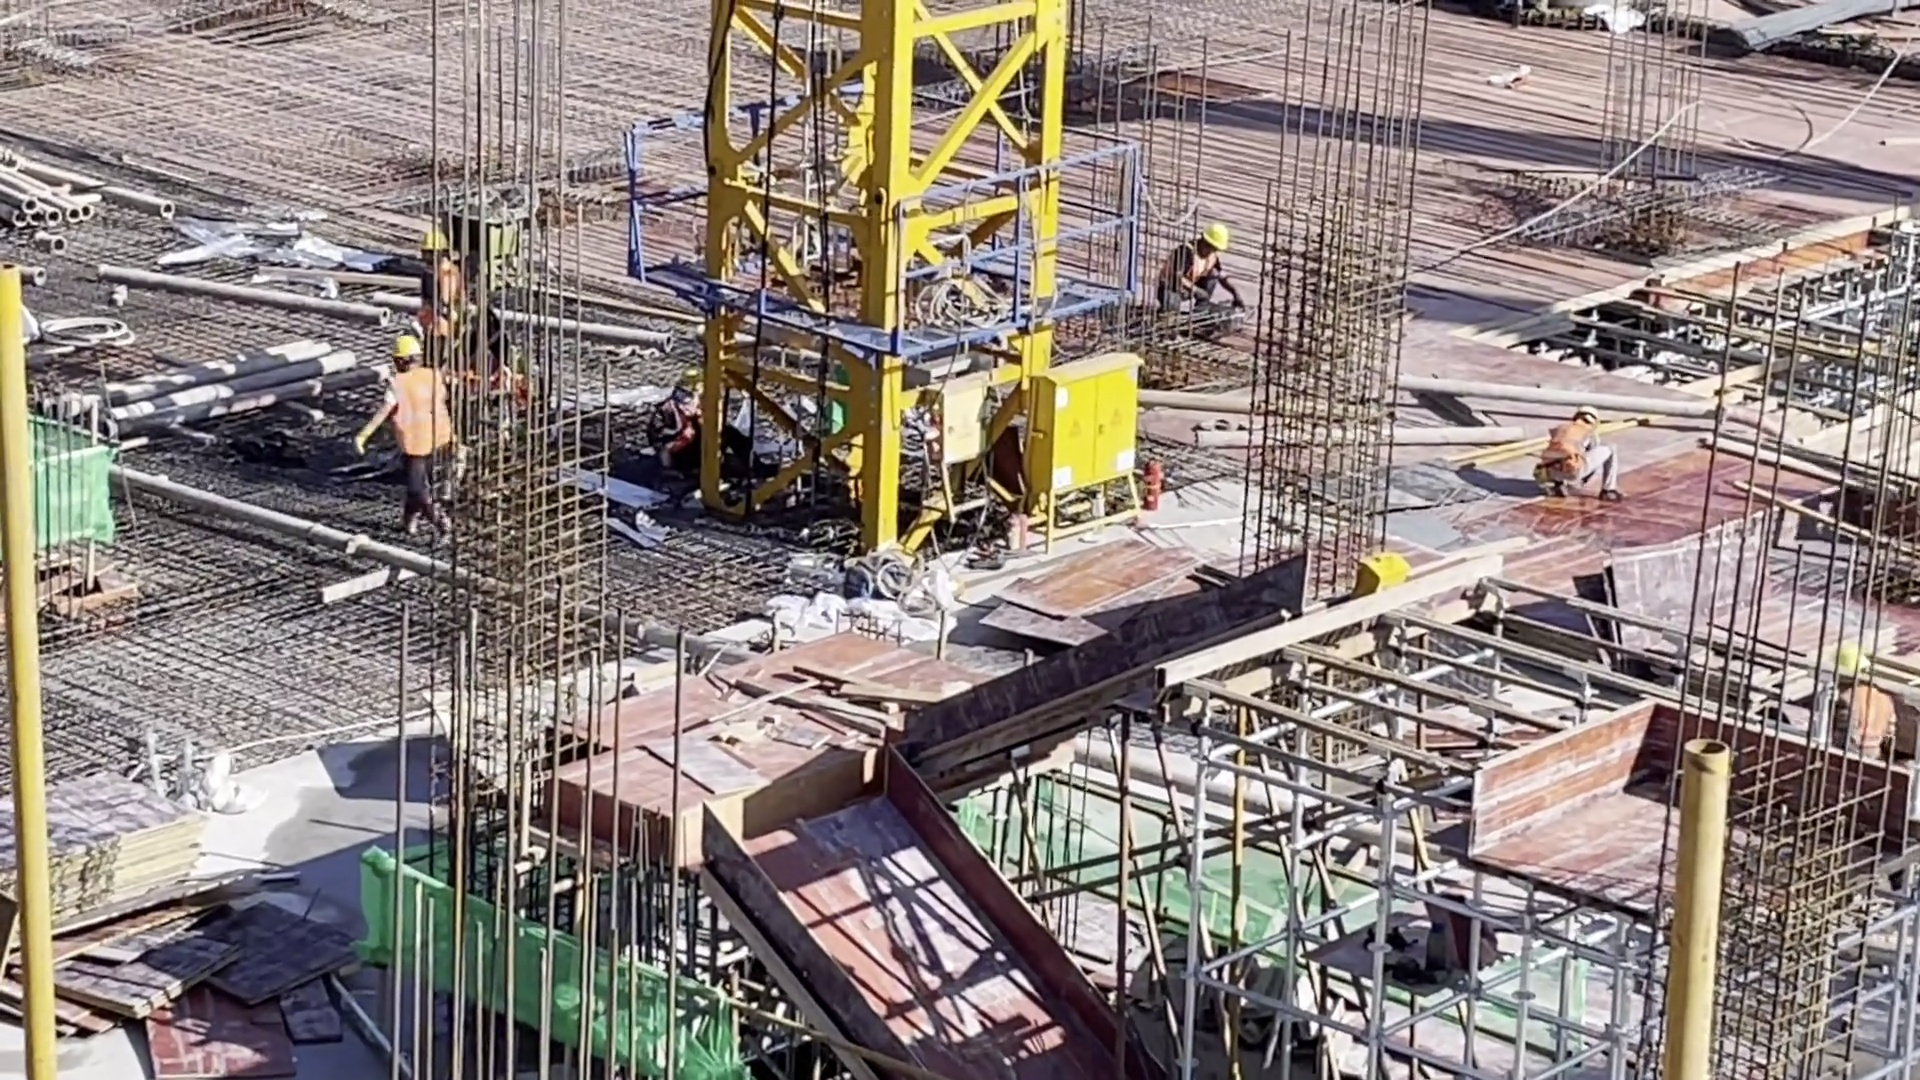board: (71, 881, 358, 1080), (27, 768, 204, 935)
ebox: (1024, 348, 1147, 550), (906, 381, 970, 548), (1345, 548, 1409, 596)
helmet: (1195, 218, 1234, 253), (1837, 651, 1881, 683), (387, 334, 423, 368)
person: (375, 329, 454, 520), (1149, 217, 1250, 321), (1833, 640, 1910, 772), (649, 362, 711, 499), (407, 221, 467, 362), (1527, 402, 1613, 491)
rebar: (1708, 1, 1920, 95)
vest: (1844, 693, 1907, 788), (378, 373, 447, 455), (1155, 247, 1223, 311), (1536, 416, 1583, 475)
